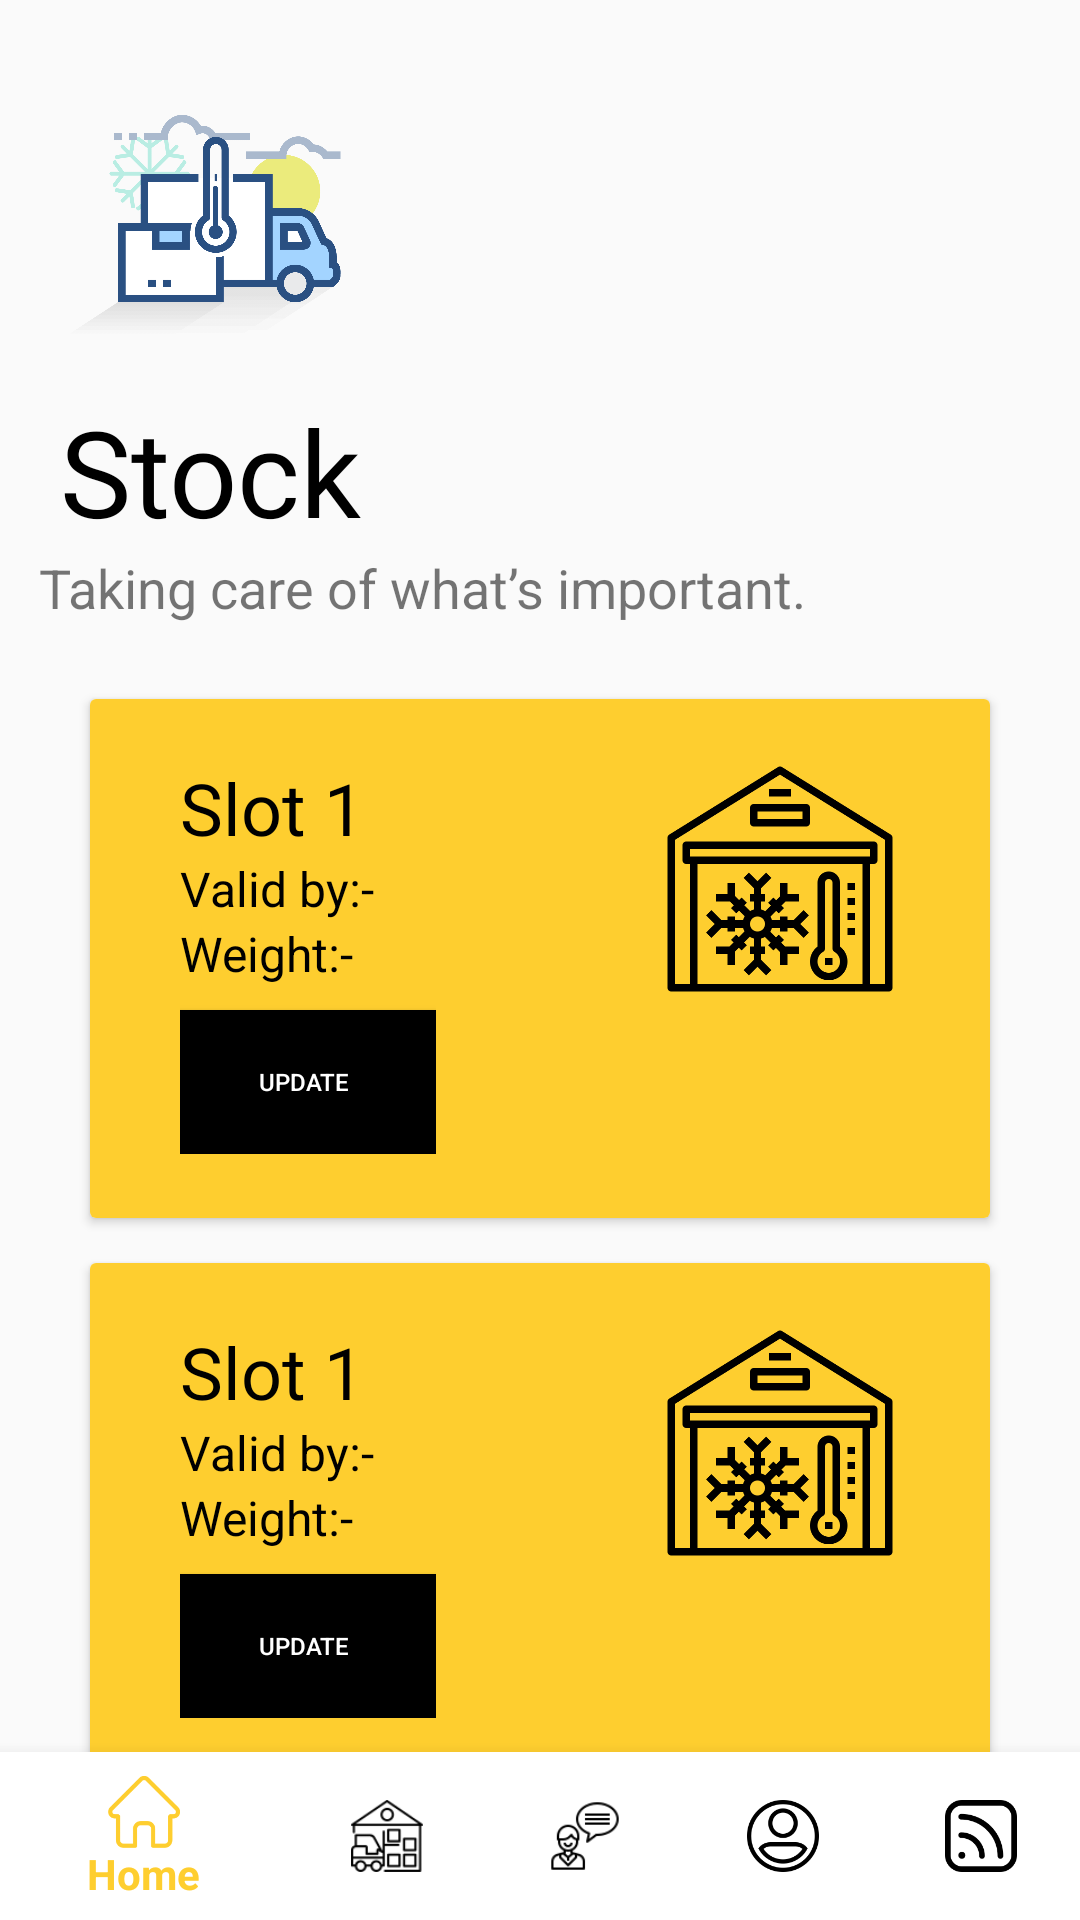

Where to tap for icons on this 1080 × 1920 app screen, as (x,y):
cold: (780,879), (780,1443)
